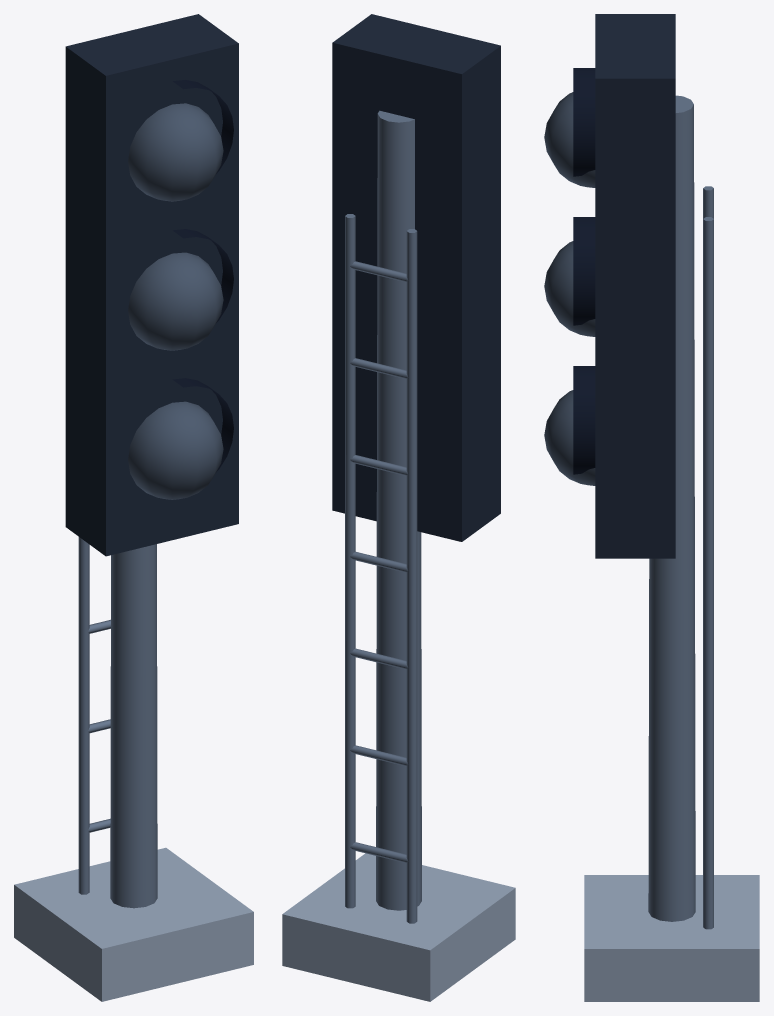
The model's file is signal_post.glb.
3 renders of one model, left to right at view 1: azimuth 30°, elevation 25°; view 2: azimuth 150°, elevation 25°; view 3: azimuth 270°, elevation 25°, orthographic. The views are drawn at different scales.
Parts seen in each view (by area): view 1: signal_post, signal_lamp_0, signal_lamp_1, signal_lamp_2; view 2: signal_post; view 3: signal_post, signal_lamp_2, signal_lamp_0, signal_lamp_1.
Part boxes in pixels (x1=…): signal_post: x1=14, y1=14, x2=253, y2=1001; signal_lamp_0: x1=128, y1=103, x2=223, y2=201; signal_lamp_1: x1=128, y1=252, x2=223, y2=350; signal_lamp_2: x1=128, y1=401, x2=223, y2=499; signal_post: x1=282, y1=14, x2=515, y2=1001; signal_post: x1=573, y1=14, x2=759, y2=1001; signal_lamp_2: x1=544, y1=390, x2=595, y2=485; signal_lamp_0: x1=544, y1=92, x2=595, y2=187; signal_lamp_1: x1=544, y1=241, x2=595, y2=336.
Size of the model in its own units: 0.48 by 2.78 by 0.59.
